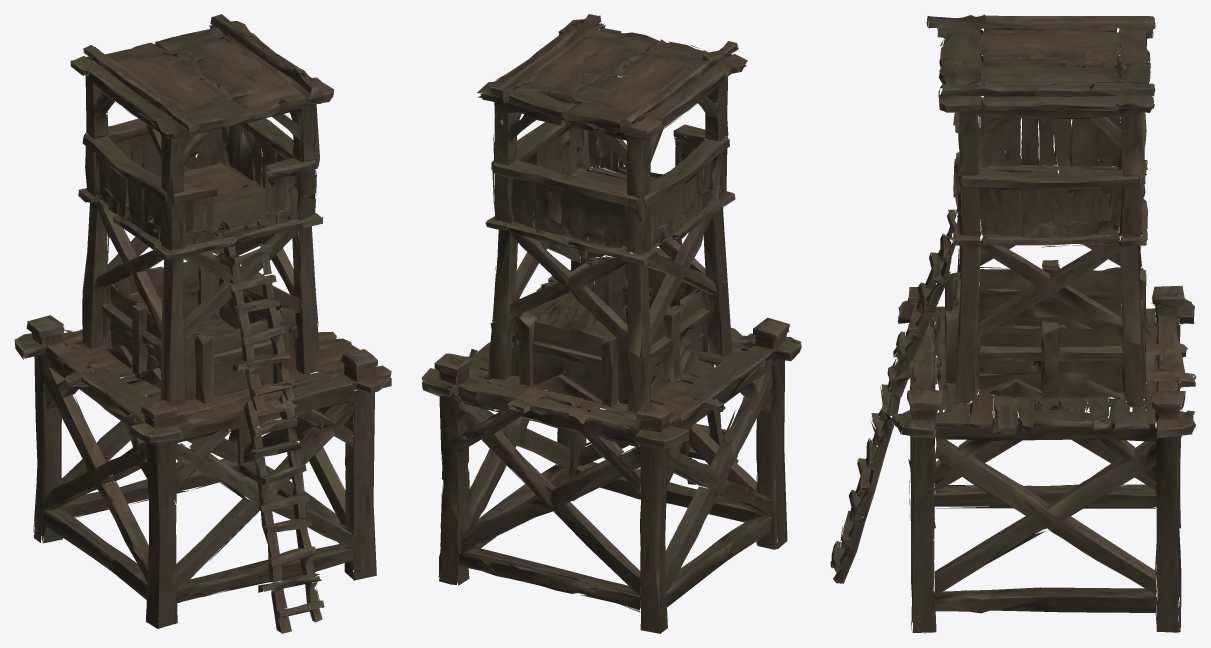
File: WoodenWatchtower.glb
3 views of the same model, side by side, from view 1: azimuth 30°, elevation 25°; view 2: azimuth 150°, elevation 25°; view 3: azimuth 270°, elevation 25° (orthographic). The views are drawn at different scales.
Visible parts, largest first — view 1: WoodenWatchtower_00, WoodenWatchtower_01, WoodenWatchtower_10, WoodenWatchtower_11; view 2: WoodenWatchtower_01, WoodenWatchtower_11, WoodenWatchtower_00, WoodenWatchtower_10; view 3: WoodenWatchtower_11, WoodenWatchtower_10, WoodenWatchtower_01, WoodenWatchtower_00.
Boxes of the visible parts, box(x1,y1,x2,y2) form: WoodenWatchtower_00: box(109, 86, 302, 633); WoodenWatchtower_01: box(14, 42, 217, 572); WoodenWatchtower_10: box(218, 61, 391, 622); WoodenWatchtower_11: box(143, 14, 336, 510); WoodenWatchtower_01: box(547, 62, 738, 633); WoodenWatchtower_11: box(421, 37, 627, 588); WoodenWatchtower_00: box(628, 39, 801, 555); WoodenWatchtower_10: box(512, 14, 710, 503); WoodenWatchtower_11: box(1013, 57, 1196, 632); WoodenWatchtower_10: box(831, 58, 1013, 633); WoodenWatchtower_01: box(1013, 16, 1194, 528); WoodenWatchtower_00: box(830, 14, 1013, 568).
Bounding box in the file's own units: 15.12 × 28.02 × 17.49.
Materials: 1 (1 with a texture image).
